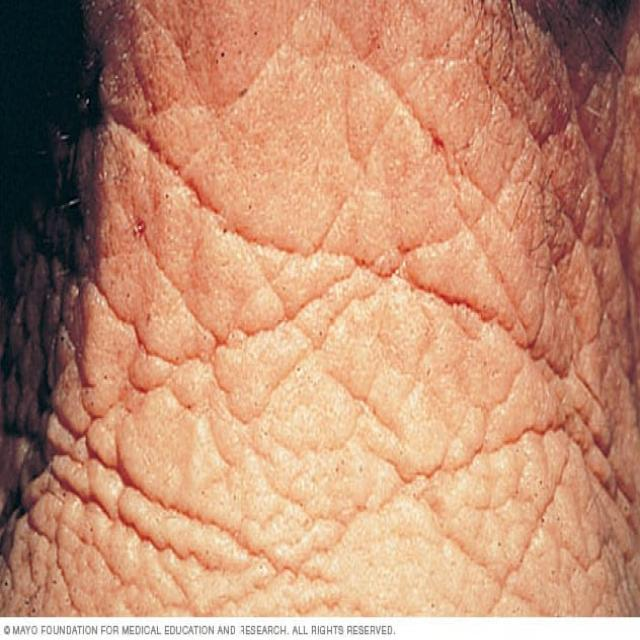Wrinkles: (98, 91, 576, 388), (62, 398, 323, 586), (87, 204, 353, 378), (364, 401, 640, 538), (526, 7, 636, 334), (61, 467, 212, 577)
